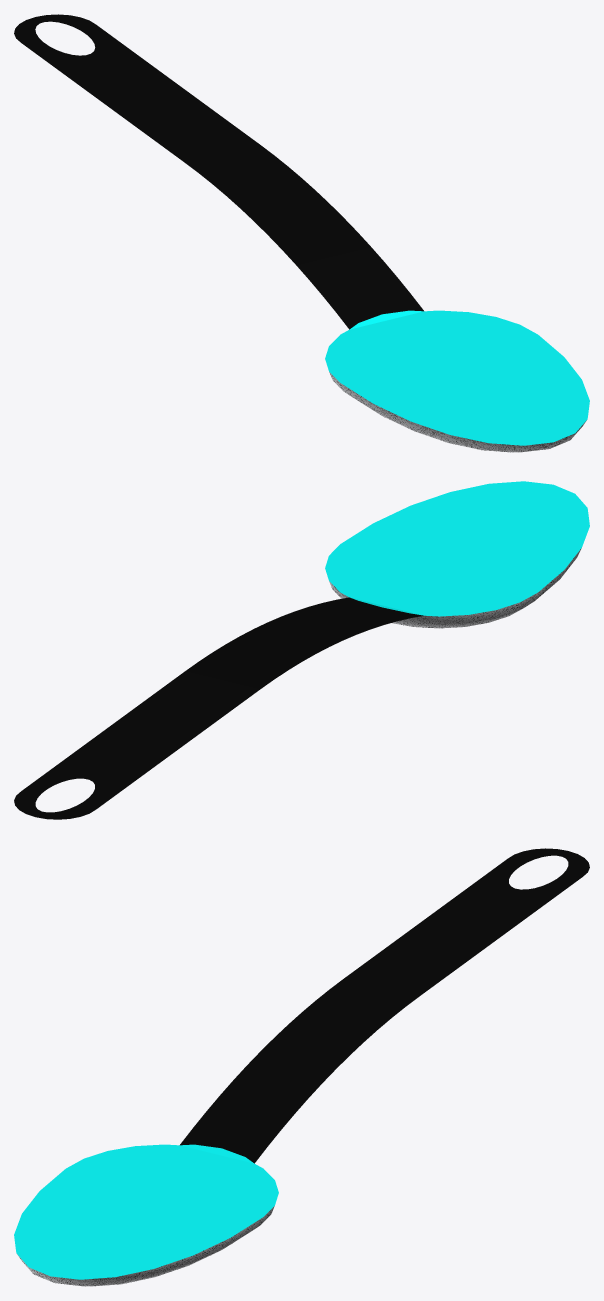
Rendered from spoon_05_origin_3.dae.
3 views of the same model, one above another, from view 1: azimuth 30°, elevation 25°; view 2: azimuth 150°, elevation 25°; view 3: azimuth 330°, elevation 25° (orthographic).
Visible parts, largest first — view 1: Untitled (×3); view 2: Untitled (×3); view 3: Untitled (×3).
Boxes of the visible parts, x1,y1,x2,y2 form: Untitled (×3): (14, 14, 589, 452); Untitled (×3): (14, 481, 589, 819); Untitled (×3): (14, 848, 589, 1286).
Size of the model in its own units: 1.99 by 9.01 by 0.7985.
